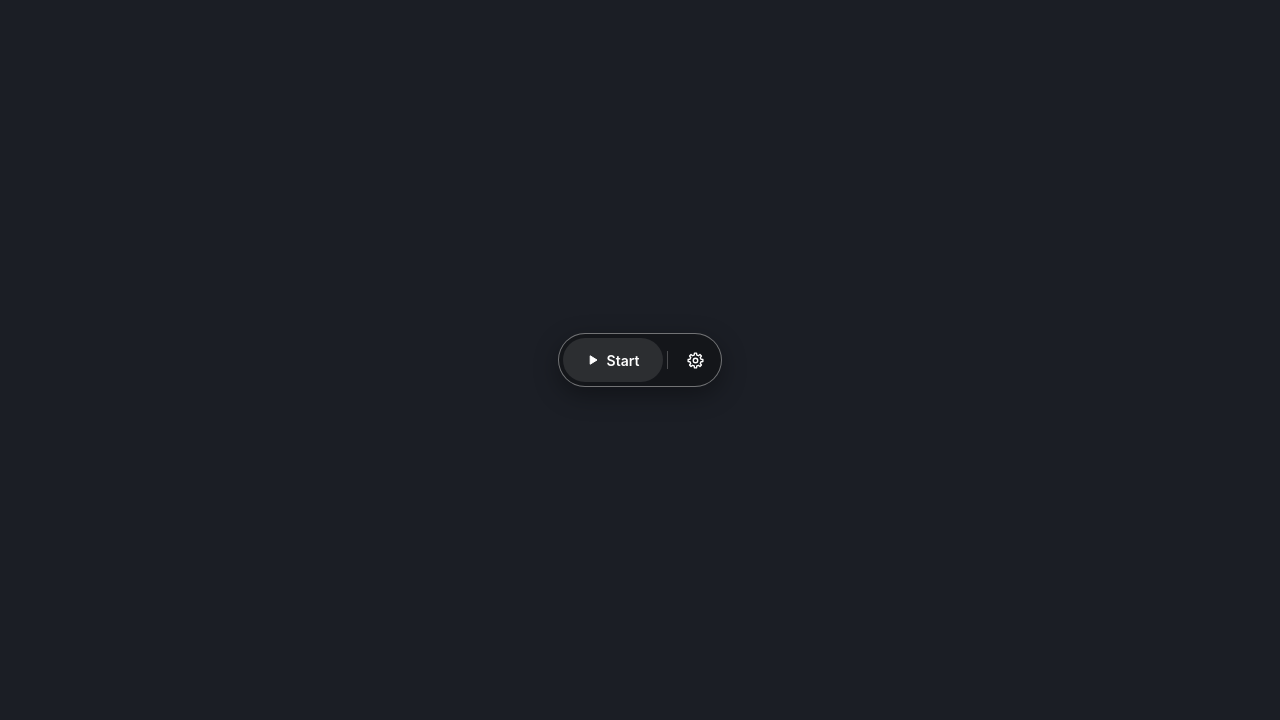
Test: preview flash › plays from the panel button and leaves the panel open
Later steps or results of the test are not shown.
Click the button named "Settings" at (695,360), box [673,338,717,382]
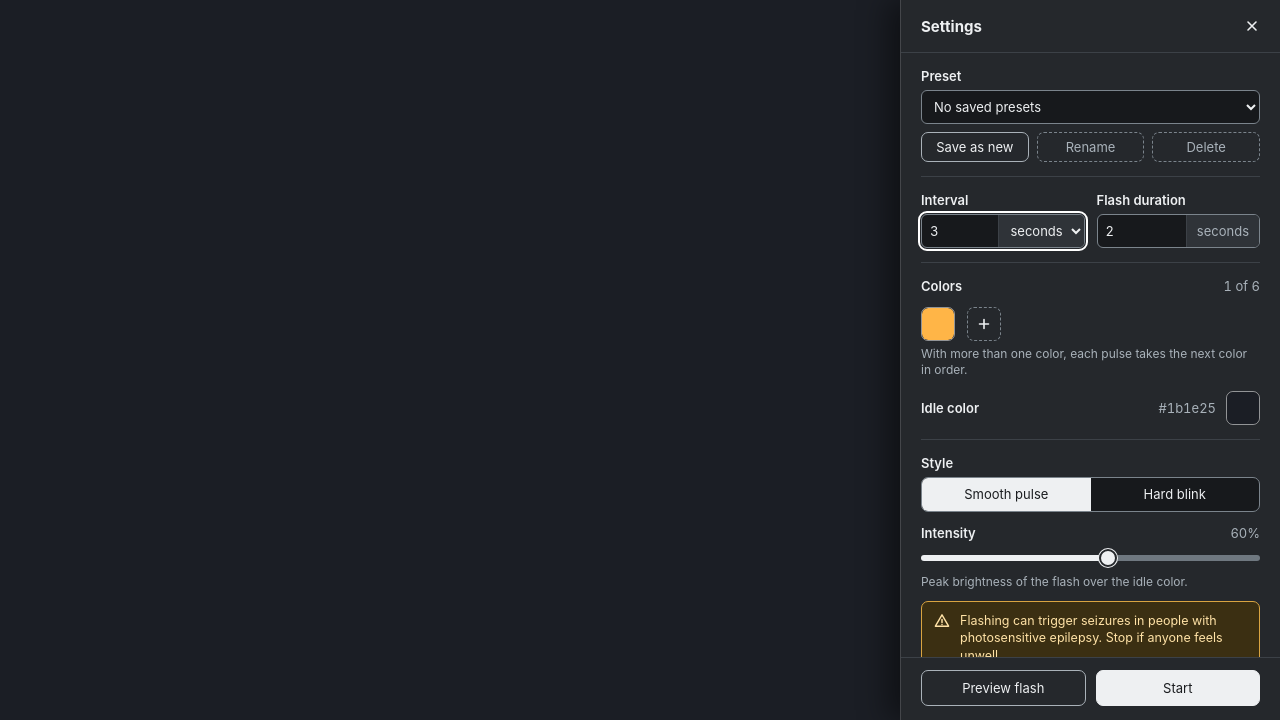
Click the button "Preview flash" at (1003,688), box [921,670,1086,706]
Wait 2000 ms
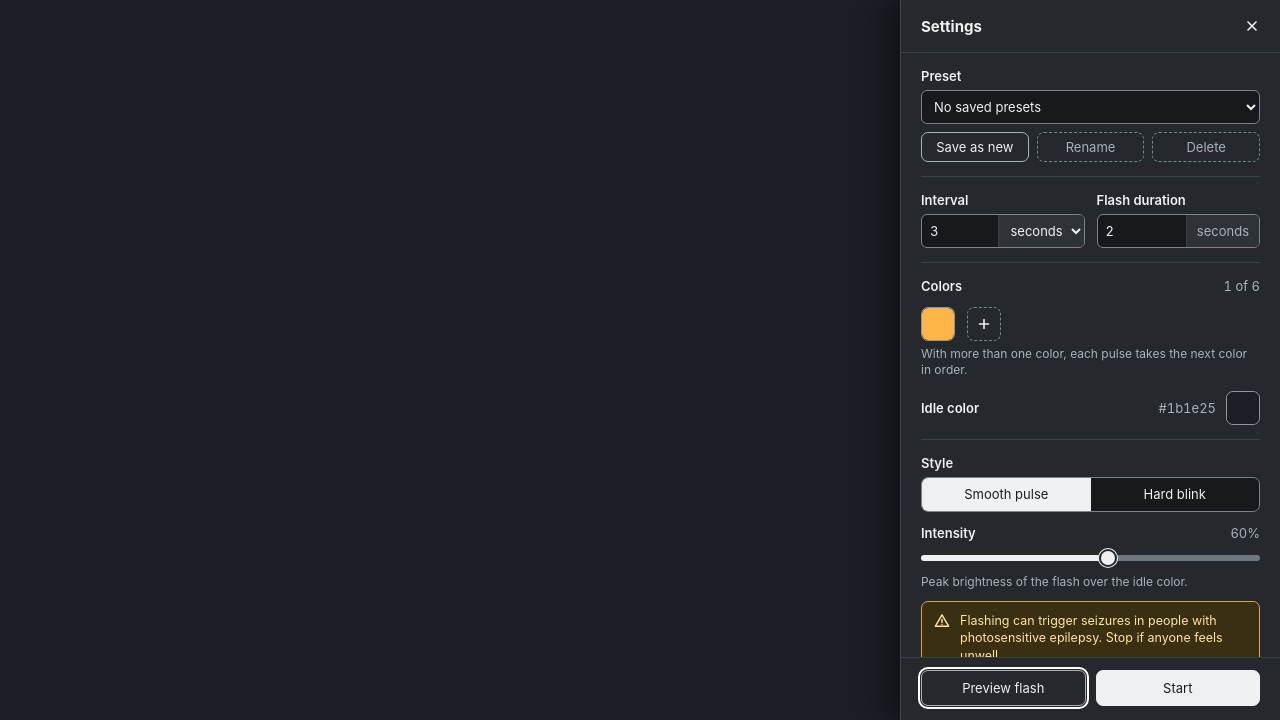
expect the dialog is shown: met, box [900,0,1279,719]
